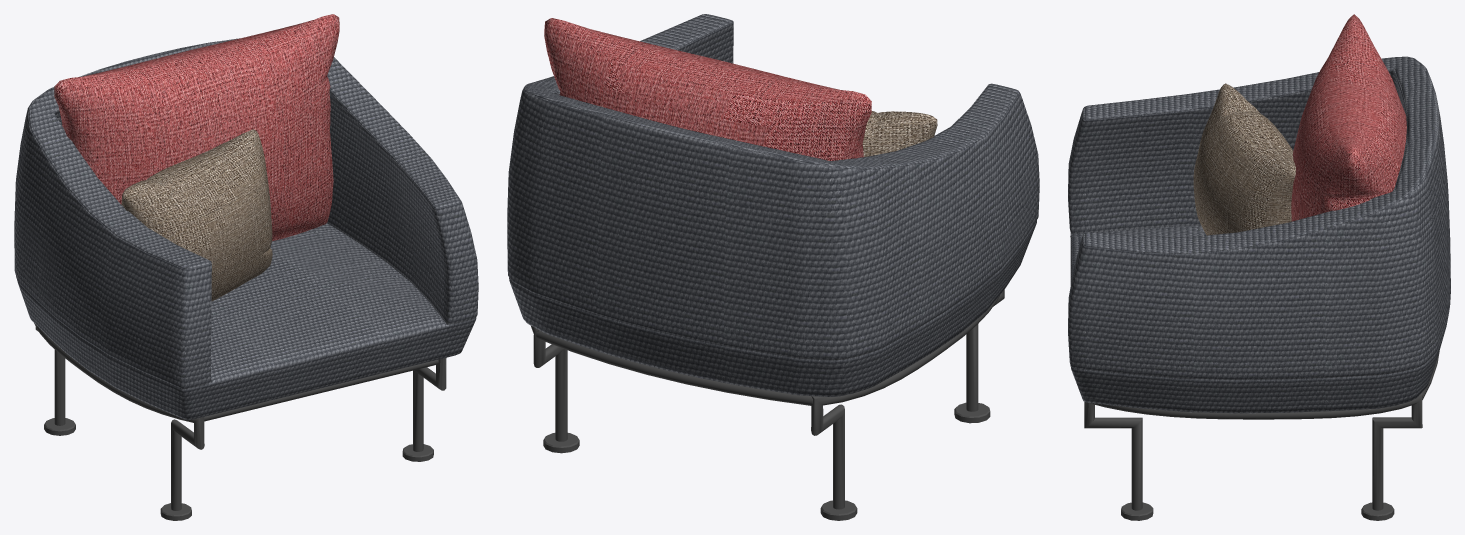
File: armchair.fbx
3 renders of one model, left to right at view 1: azimuth 30°, elevation 25°; view 2: azimuth 150°, elevation 25°; view 3: azimuth 270°, elevation 25°, orthographic. The views are drawn at different scales.
Visible parts, largest first — view 1: Arch_Object_02, Arch_Object_03, Arch_Object_10, Arch_Object_04, Arch_Object_05, Arch_Object_07; view 2: Arch_Object_02, Arch_Object_03, Arch_Object_04, Arch_Object_09, Arch_Object_10, Arch_Object_05; view 3: Arch_Object_02, Arch_Object_03, Arch_Object_10, Arch_Object_05.
Boxes of the visible parts, x1,y1,x2,y2 form: Arch_Object_02: (14, 38, 478, 419); Arch_Object_03: (54, 14, 339, 241); Arch_Object_10: (121, 129, 272, 301); Arch_Object_04: (34, 323, 204, 520); Arch_Object_05: (402, 357, 446, 461); Arch_Object_07: (204, 360, 438, 421); Arch_Object_02: (507, 14, 1039, 396); Arch_Object_03: (544, 18, 871, 160); Arch_Object_04: (811, 290, 1004, 520); Arch_Object_09: (536, 331, 812, 405); Arch_Object_10: (862, 111, 937, 156); Arch_Object_05: (531, 326, 579, 453); Arch_Object_02: (1068, 56, 1450, 413); Arch_Object_03: (1291, 14, 1406, 221); Arch_Object_10: (1193, 83, 1295, 235); Arch_Object_05: (1084, 393, 1422, 520).
Size of the model in its own units: 0.7488 by 0.7482 by 0.6976.
